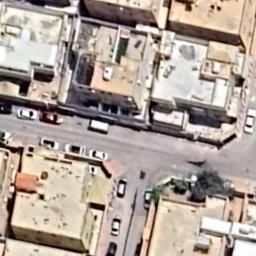sedan: (38, 110, 62, 126), (243, 108, 256, 133), (64, 142, 86, 156), (39, 137, 60, 151), (16, 108, 38, 120), (88, 149, 108, 161), (110, 216, 122, 236), (116, 178, 127, 198), (104, 241, 118, 256)
unknown: (88, 118, 110, 135), (143, 190, 153, 211)
